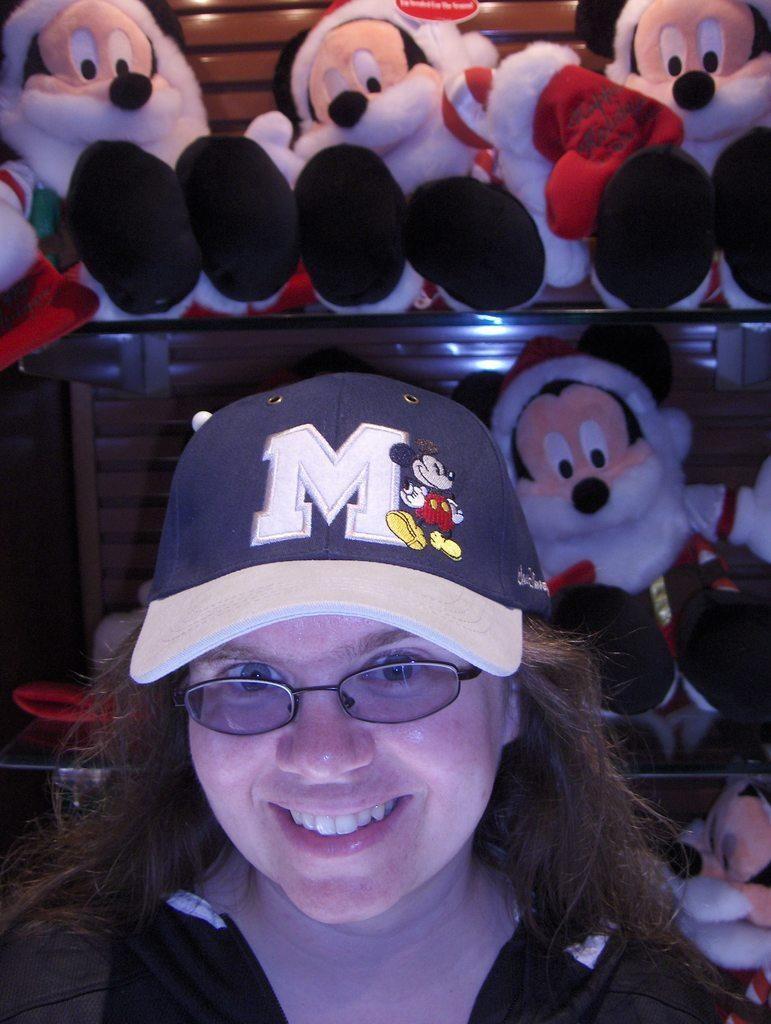Hat: (125, 364, 556, 682)
